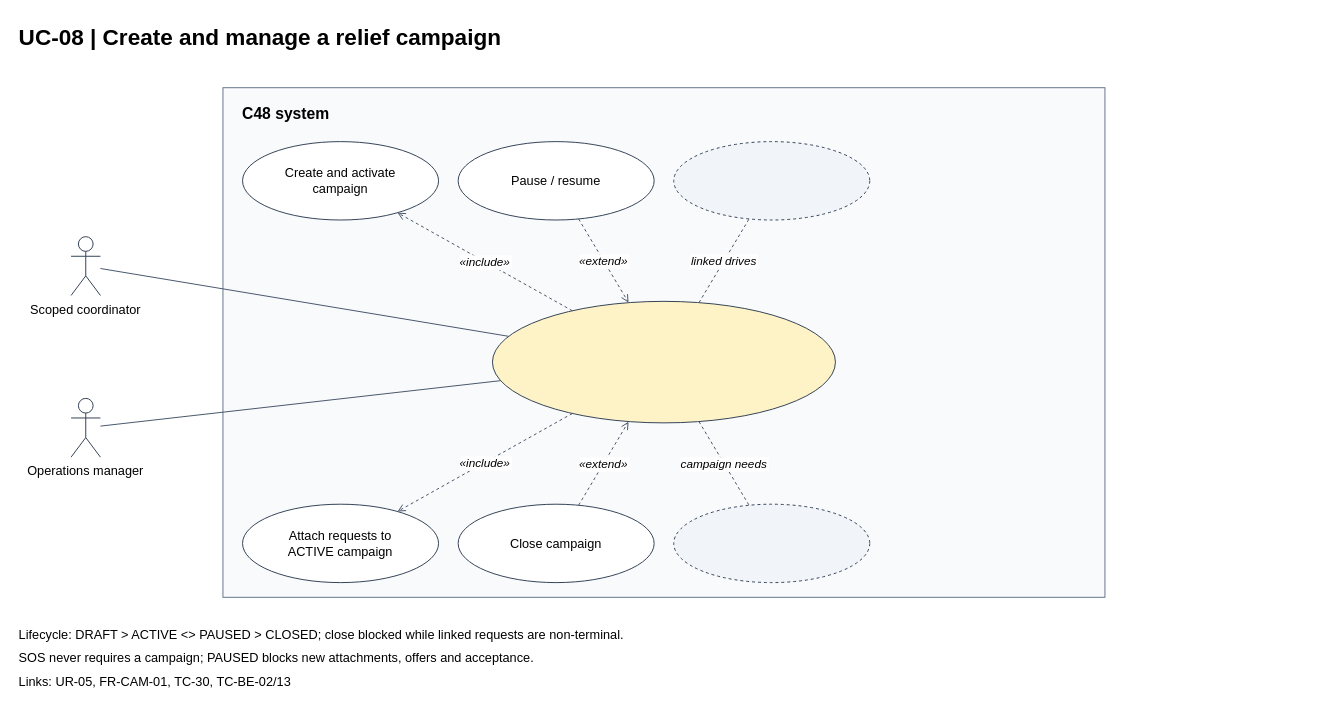
This 1327x706 diagram has some shape labels left out. The shapes that lost their labels are listed below. From the top down, each one's centre as x and y in pixels, then its label:
pixel 771 180: UC-10 Manage donation drive
pixel 663 361: UC-08 Create and manage a relief campaign
pixel 771 543: UC-04 Commit and fulfill need
